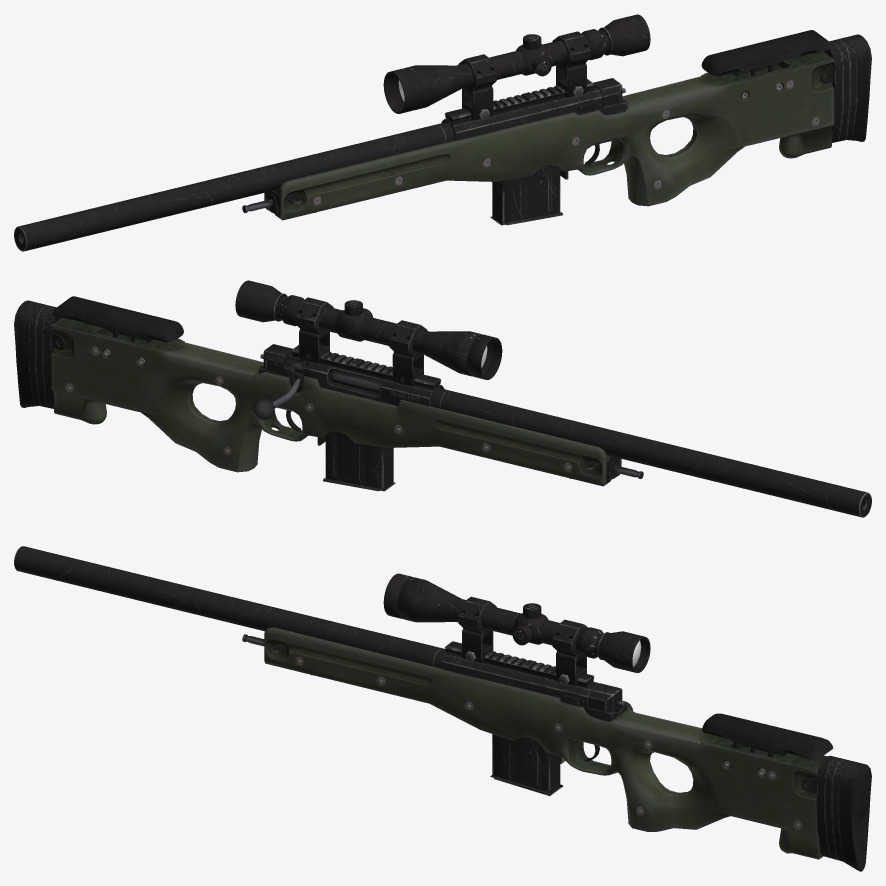
Rendered from awm_field.glb.
3 renders of one model, top to bottom at view 1: azimuth 30°, elevation 25°; view 2: azimuth 150°, elevation 25°; view 3: azimuth 330°, elevation 25°, orthographic.
Visible parts, largest first — view 1: frame, scope, mag, bolt; view 2: frame, scope, mag, bolt_handle, bolt; view 3: frame, scope, mag, bolt.
Part boxes in pixels (box(x1,y1,x2,y2)): frame: box(14, 30, 871, 251); scope: box(383, 14, 650, 120); mag: box(490, 165, 562, 225); bolt: box(593, 78, 625, 107); frame: box(14, 296, 871, 517); scope: box(235, 280, 502, 386); mag: box(323, 431, 395, 491); bolt_handle: box(253, 358, 381, 420); bolt: box(260, 344, 292, 373); frame: box(14, 546, 871, 871); scope: box(383, 573, 650, 685); mag: box(490, 734, 562, 795); bolt: box(588, 683, 625, 712).
Bounding box in the file's own units: 119 × 25.51 × 9.94.
3 materials, 2 textured.
